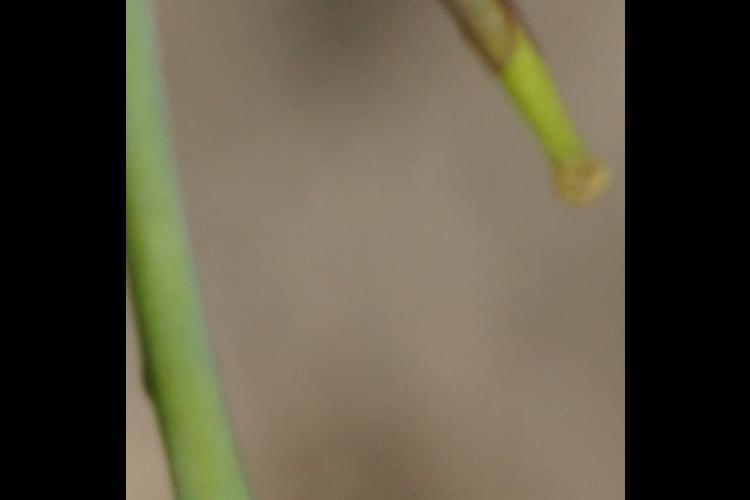pod: (375, 1, 608, 195)
